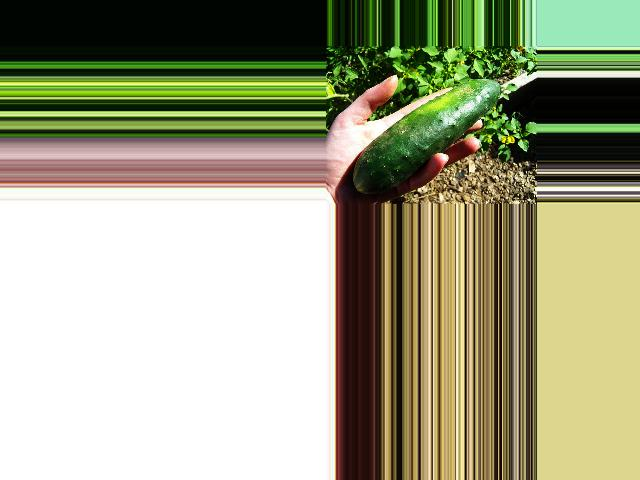cucumber: (354, 79, 501, 193)
